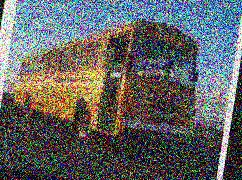bus: (6, 0, 210, 161)
